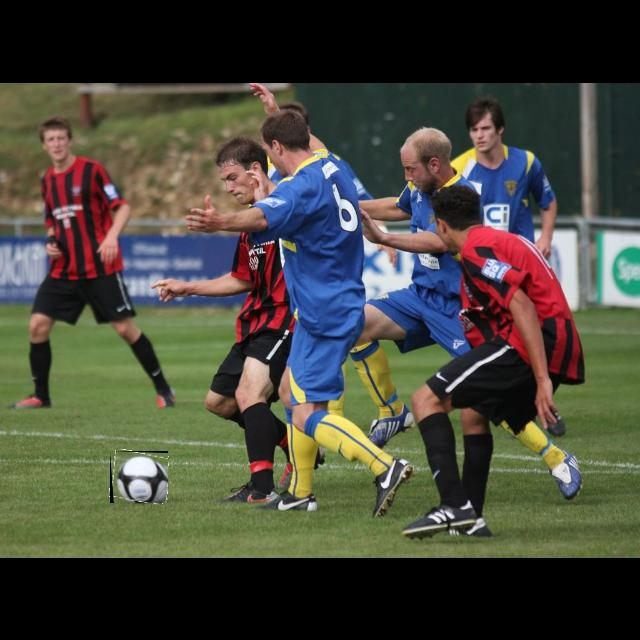Football: (110, 451, 168, 503)
